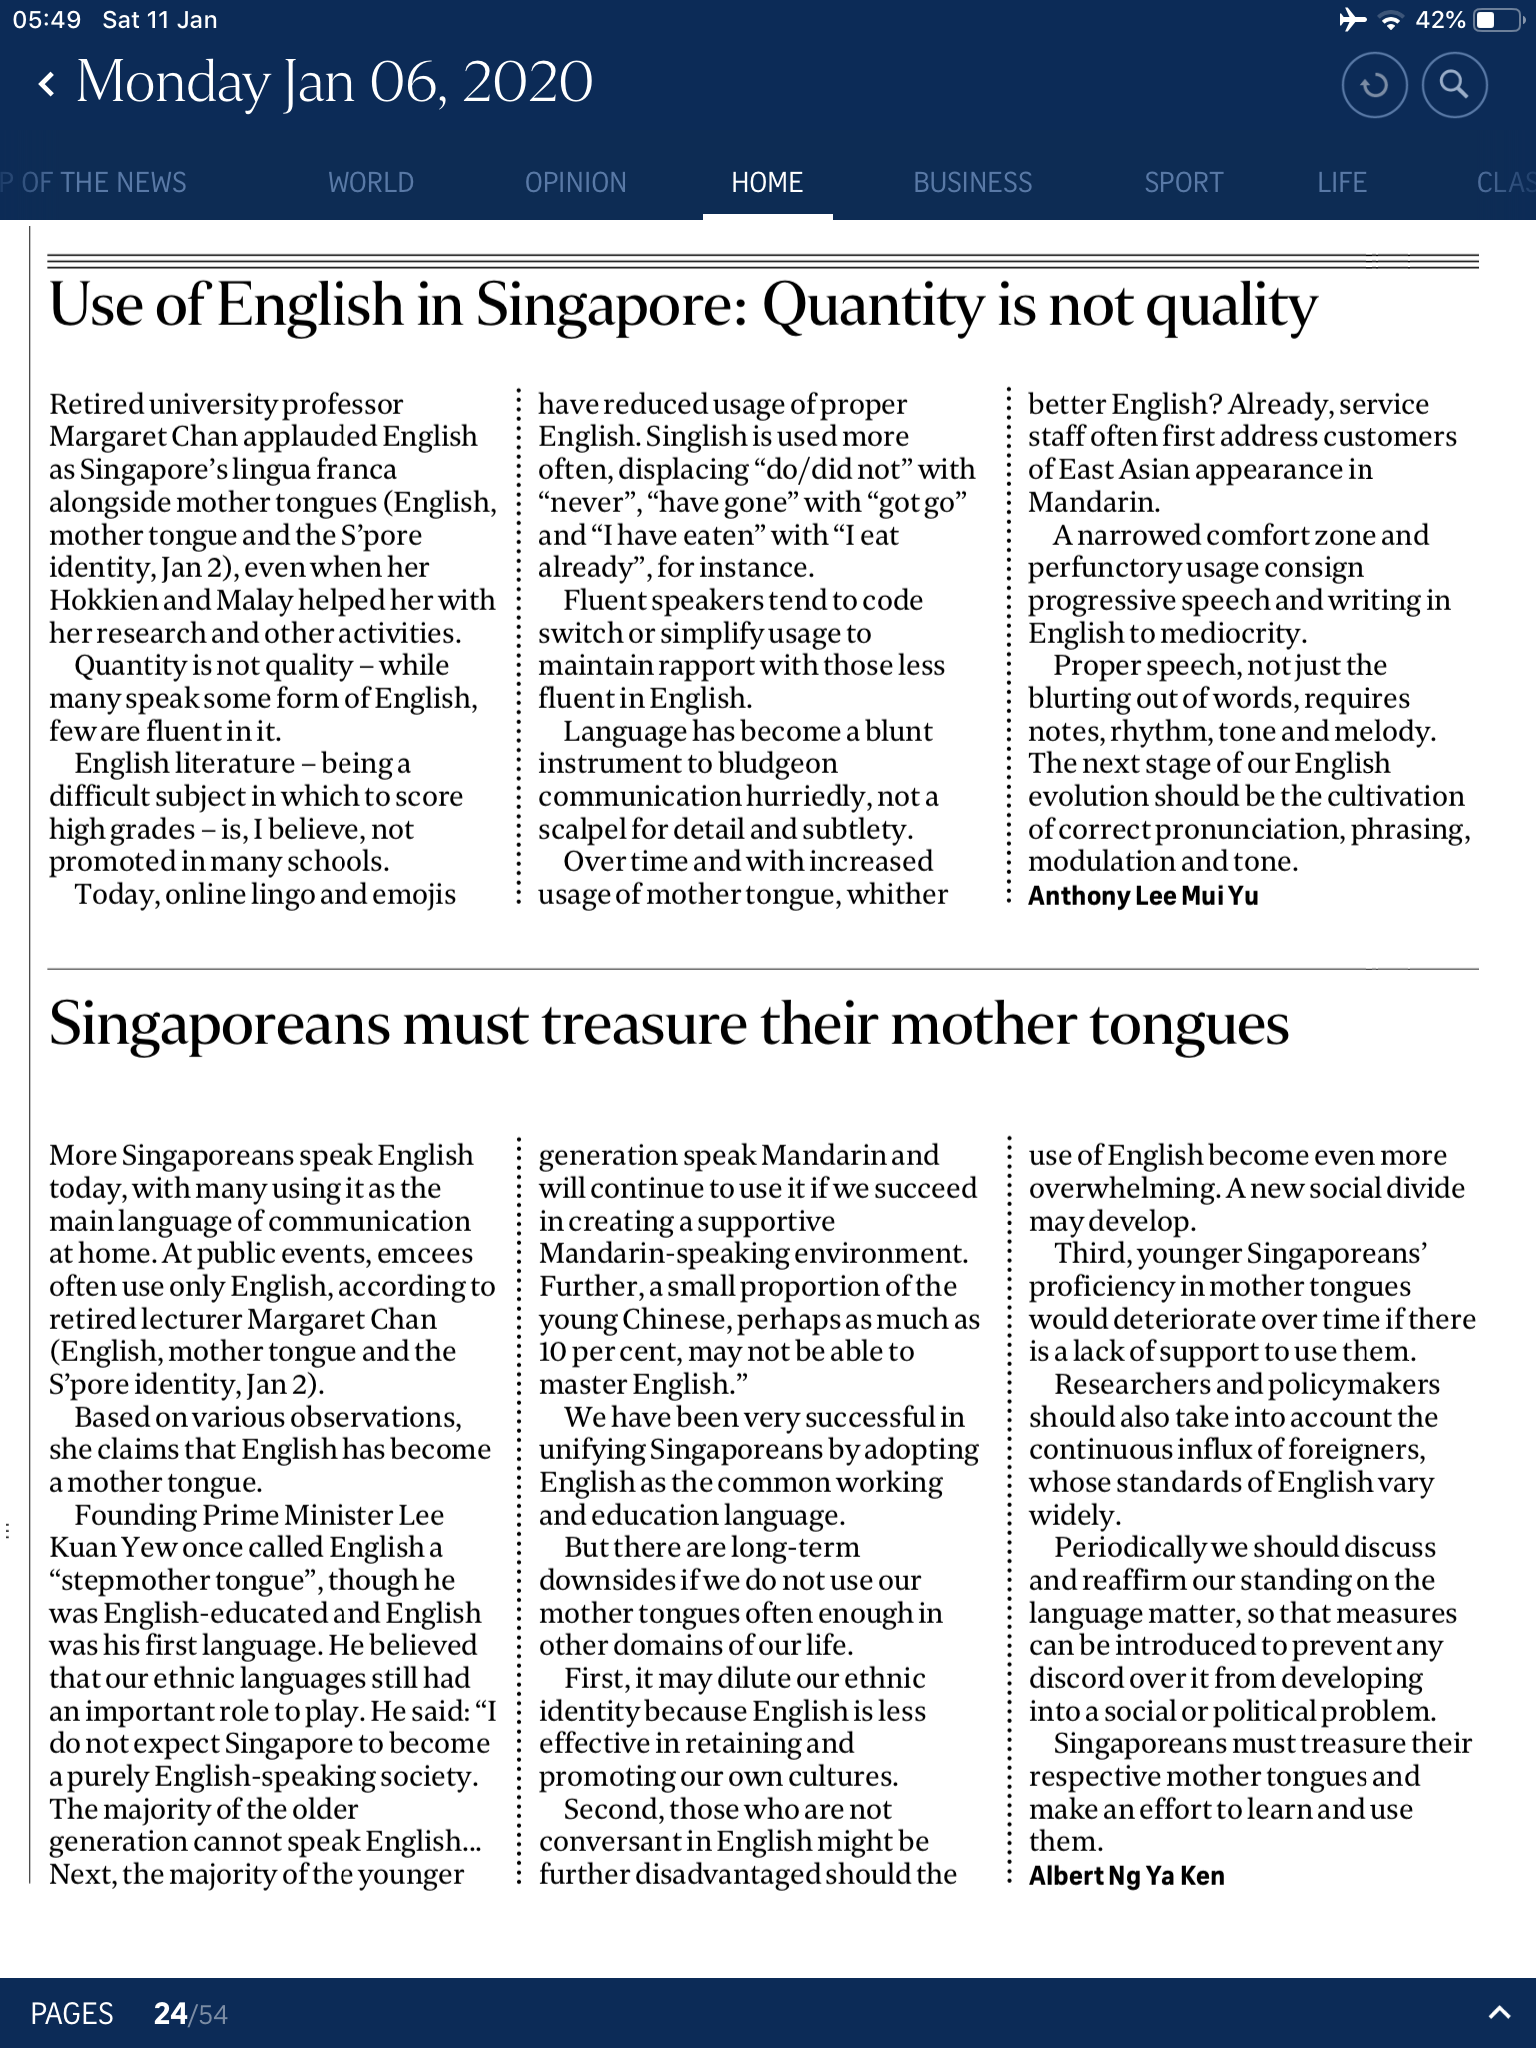Byline: (1025, 884, 1267, 910), (1023, 1859, 1233, 1888)
Headline: (47, 993, 1296, 1059), (50, 277, 1320, 342)
Text: (47, 1138, 497, 1895), (536, 1134, 984, 1890), (1026, 1137, 1473, 1856), (531, 389, 981, 914), (48, 389, 499, 913), (1026, 385, 1476, 876)
